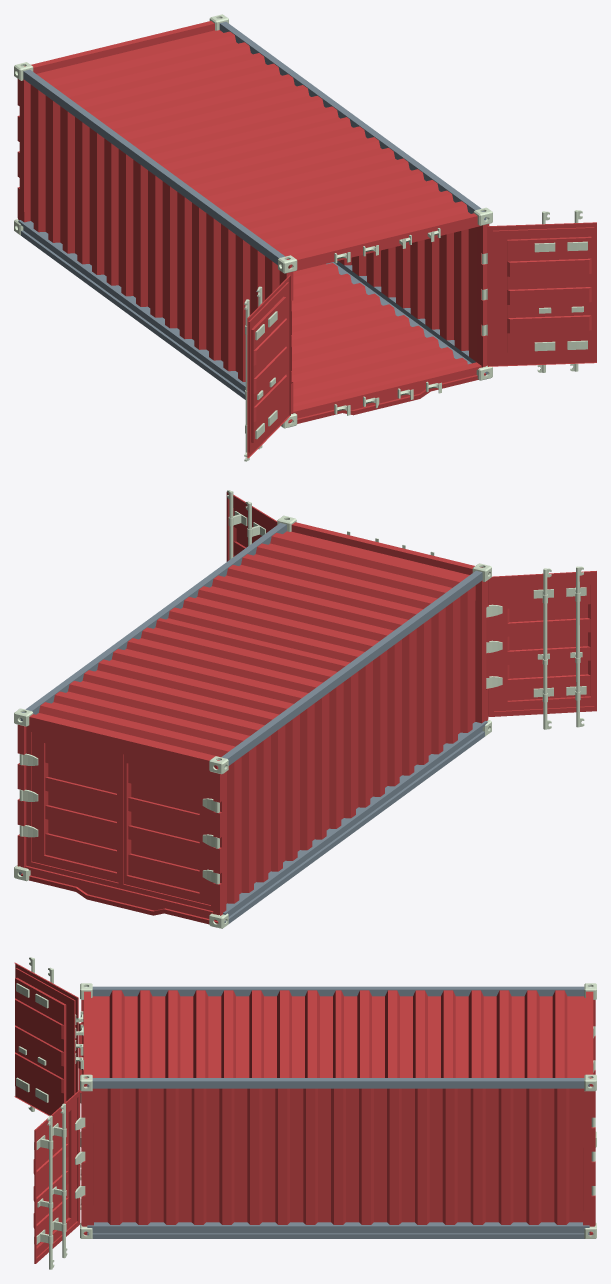
File: Modular[RED].fbx
The picture shows the model from 3 angles, top to bottom: view 1: azimuth 30°, elevation 25°; view 2: azimuth 150°, elevation 25°; view 3: azimuth 270°, elevation 25°; orthographic projection. The views are drawn at different scales.
Parts seen in each view (by area): view 1: Red[broken].001, Red[broken].005, RedDoor[broken].R, Red[broken].004, Red[broken].003, Red[broken].002, RedDoor[broken].L, RedDoor[broken].L.001; view 2: Red[broken].001, Red[broken].005, Red[broken].002, RedDoor[broken].L, Red[broken].003, RedDoor[broken].R, RedDoor[broken].L.002, RedDoor[broken].L.001; view 3: Red[broken].003, Red[broken].001, RedDoor[broken].L, RedDoor[broken].R, Red[broken].002, Red[broken].005, RedDoor[broken].R.002, RedDoor[broken].R.001.
Boxes of the visible parts, left/top/right/bottom form: Red[broken].001: left=36, top=30, right=470, bottom=256; Red[broken].005: left=14, top=62, right=297, bottom=428; RedDoor[broken].R: left=487, top=222, right=596, bottom=366; Red[broken].004: left=292, top=263, right=467, bottom=406; Red[broken].003: left=209, top=14, right=492, bottom=380; Red[broken].002: left=17, top=21, right=489, bottom=423; RedDoor[broken].L: left=245, top=275, right=291, bottom=458; RedDoor[broken].L.001: left=244, top=299, right=264, bottom=461; Red[broken].001: left=36, top=531, right=469, bottom=757; Red[broken].005: left=209, top=563, right=491, bottom=928; Red[broken].002: left=17, top=522, right=488, bottom=924; RedDoor[broken].L: left=486, top=571, right=596, bottom=716; Red[broken].003: left=14, top=515, right=296, bottom=881; RedDoor[broken].R: left=226, top=492, right=277, bottom=561; RedDoor[broken].L.002: left=533, top=568, right=553, bottom=729; RedDoor[broken].L.001: left=566, top=566, right=586, bottom=727; Red[broken].003: left=80, top=1074, right=596, bottom=1238; Red[broken].001: left=91, top=990, right=585, bottom=1077; RedDoor[broken].L: left=14, top=962, right=83, bottom=1115; RedDoor[broken].R: left=33, top=1090, right=80, bottom=1263; Red[broken].002: left=75, top=991, right=595, bottom=1235; Red[broken].005: left=80, top=983, right=596, bottom=1147; RedDoor[broken].R.002: left=34, top=1115, right=54, bottom=1269; RedDoor[broken].R.001: left=52, top=1103, right=67, bottom=1258.
Size of the model in its own units: 475 by 697 by 216.
